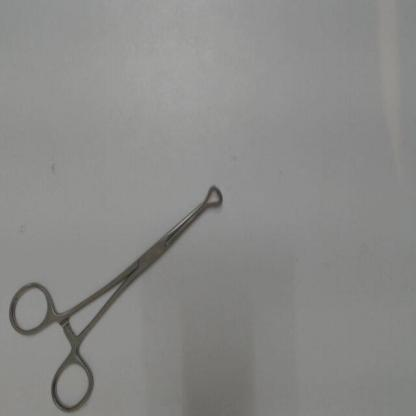Babcock Tissue Forceps: (7, 179, 226, 415)
